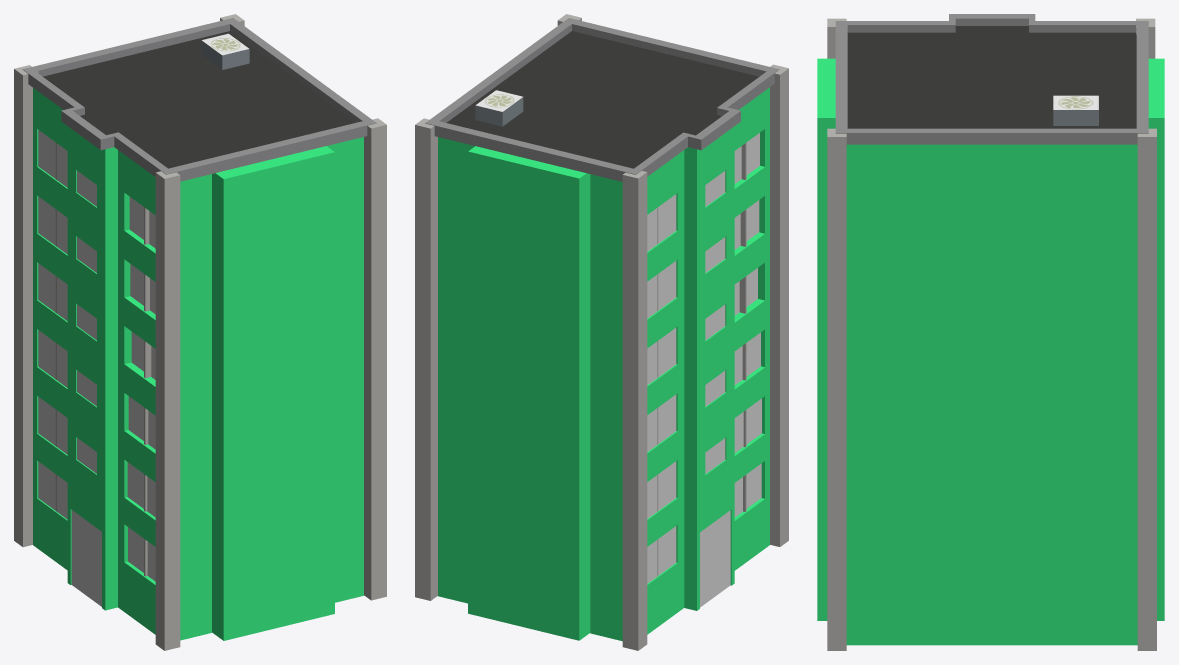
File: putong_xiaoxing05.fbx
3 renders of one model, left to right at view 1: azimuth 30°, elevation 25°; view 2: azimuth 150°, elevation 25°; view 3: azimuth 270°, elevation 25°, orthographic. The views are drawn at different scales.
Parts seen in each view (by area): view 1: putong_xiaoxing05; view 2: putong_xiaoxing05; view 3: putong_xiaoxing05.
Boxes of the visible parts, x1,y1,x2,y2 form: putong_xiaoxing05: (14,14,386,650); putong_xiaoxing05: (415,14,788,650); putong_xiaoxing05: (817,14,1164,650).
Size of the model in its own units: 4.23 by 5.08 by 8.44.
